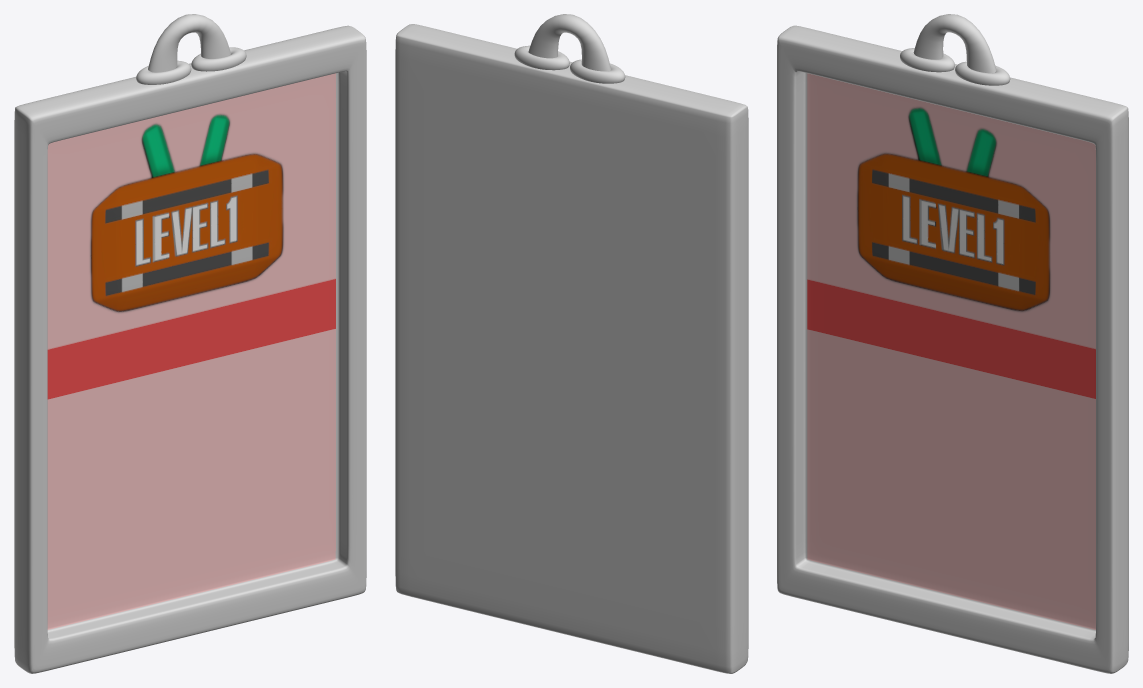
The model's file is Frame-L1.fbx.
The picture shows the model from 3 angles, left to right: view 1: azimuth 30°, elevation 25°; view 2: azimuth 150°, elevation 25°; view 3: azimuth 330°, elevation 25°; orthographic projection.
Visible parts, largest first — view 1: Frame1; view 2: Frame1; view 3: Frame1.
Part boxes in pixels (x1,y1,x2,y2): Frame1: (14,14,366,673); Frame1: (395,14,748,673); Frame1: (777,14,1128,673).
Bounding box in the file's own units: 11.07 × 19.17 × 1.03.
Materials: 2 (1 with a texture image).
